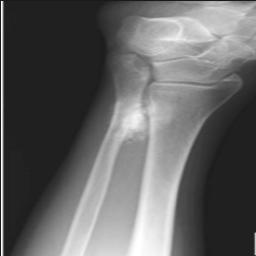cancer: (110, 97, 173, 145)
